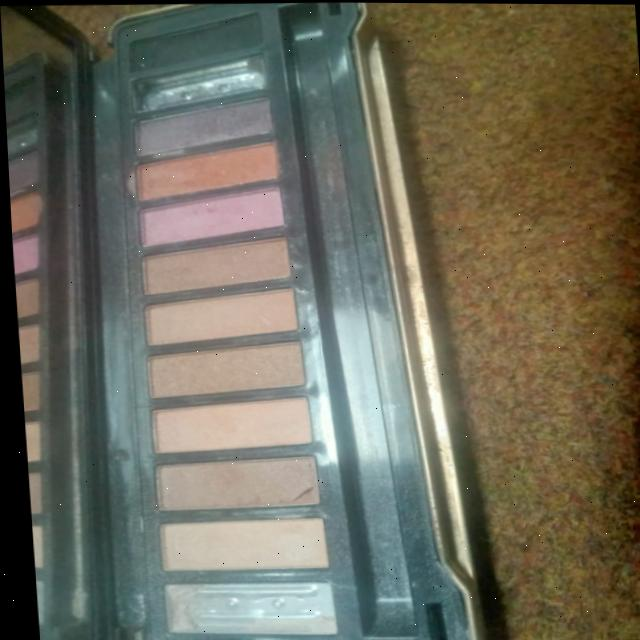brush: (292, 2, 437, 640)
eye shade: (88, 2, 318, 640)
